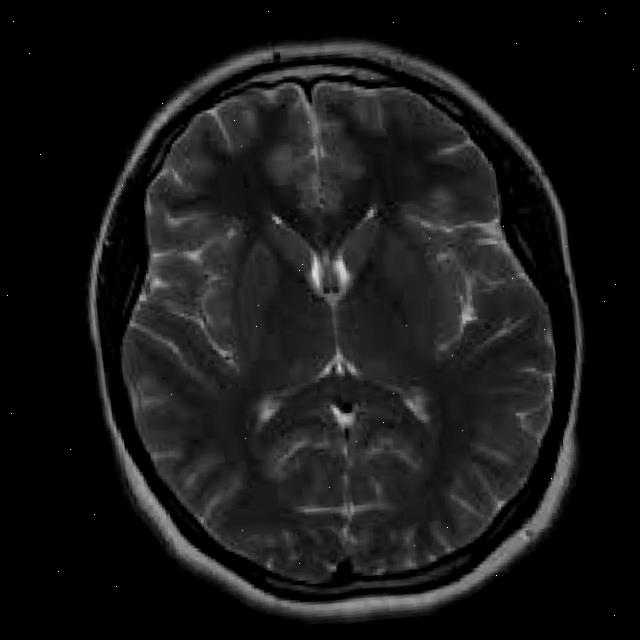NoTumor: (37, 4, 630, 640)
